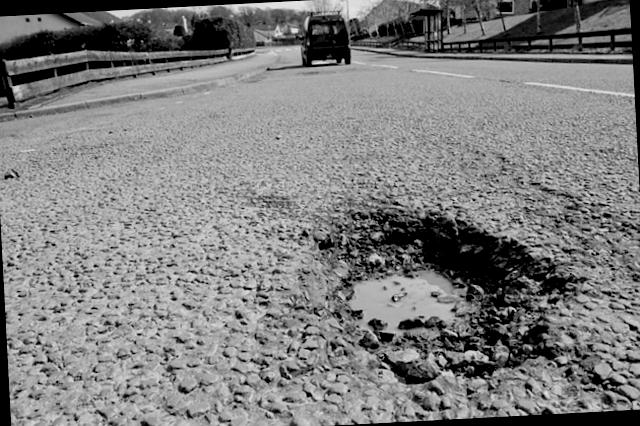Pothole: (270, 178, 600, 406)
